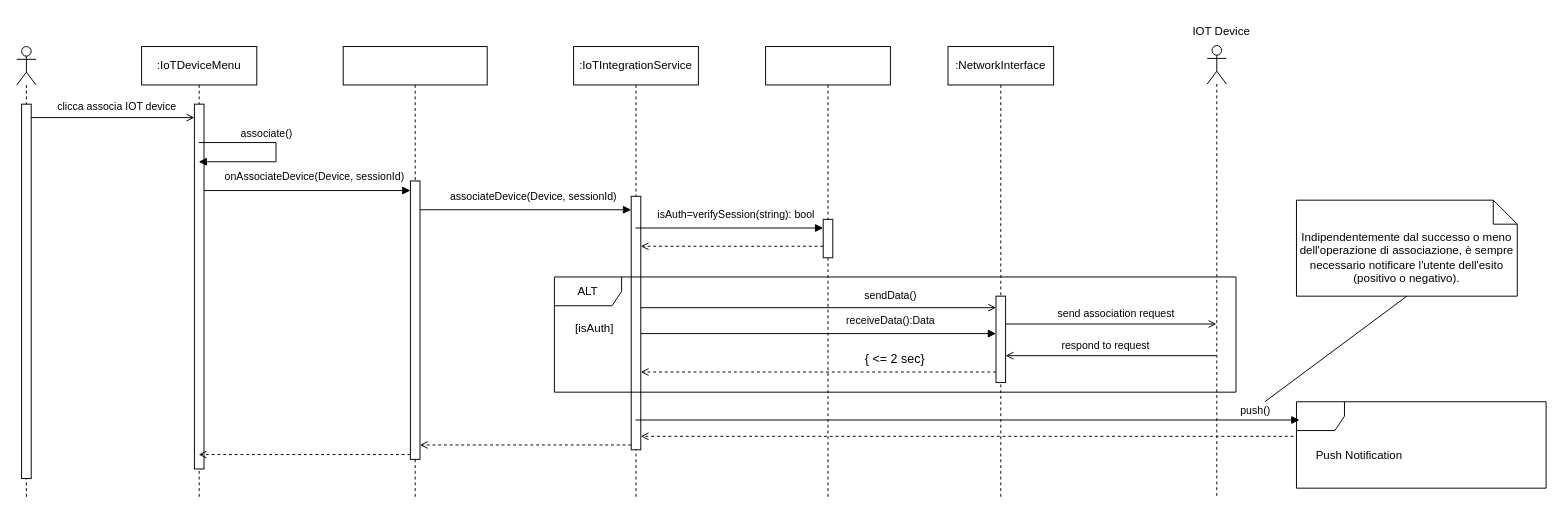
Some shapes in this 1563 by 515 pixel diagram are drawn without their labels. Here are the shapes that lost their labels. From the top down, the box of each, then its label:
(342, 46, 487, 498): :IoTDeviceController
(765, 46, 890, 498): :AuthenticationService
(1296, 401, 1546, 488): Ref
